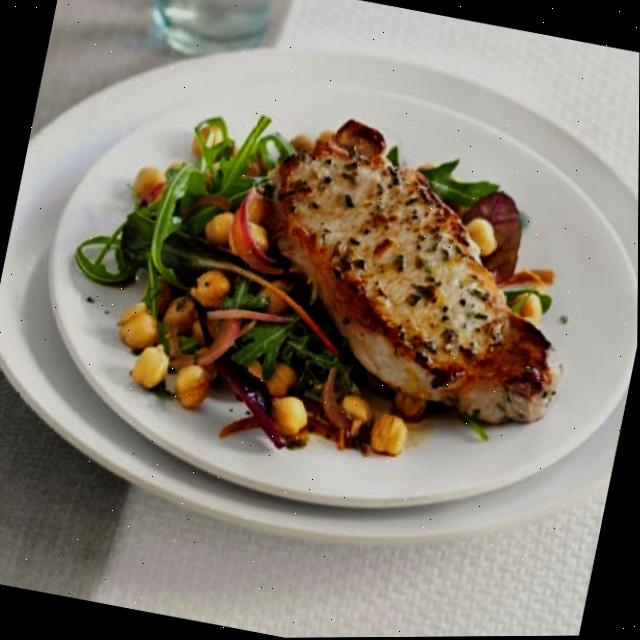猪肉菜式: (4, 19, 640, 590)
